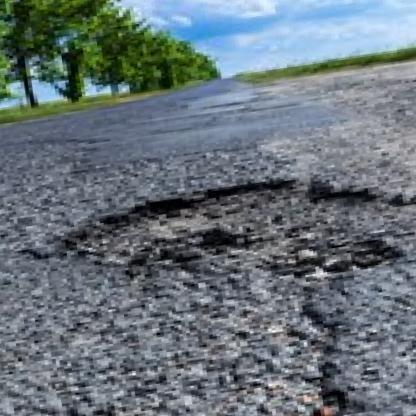pothole: (49, 155, 416, 321)
